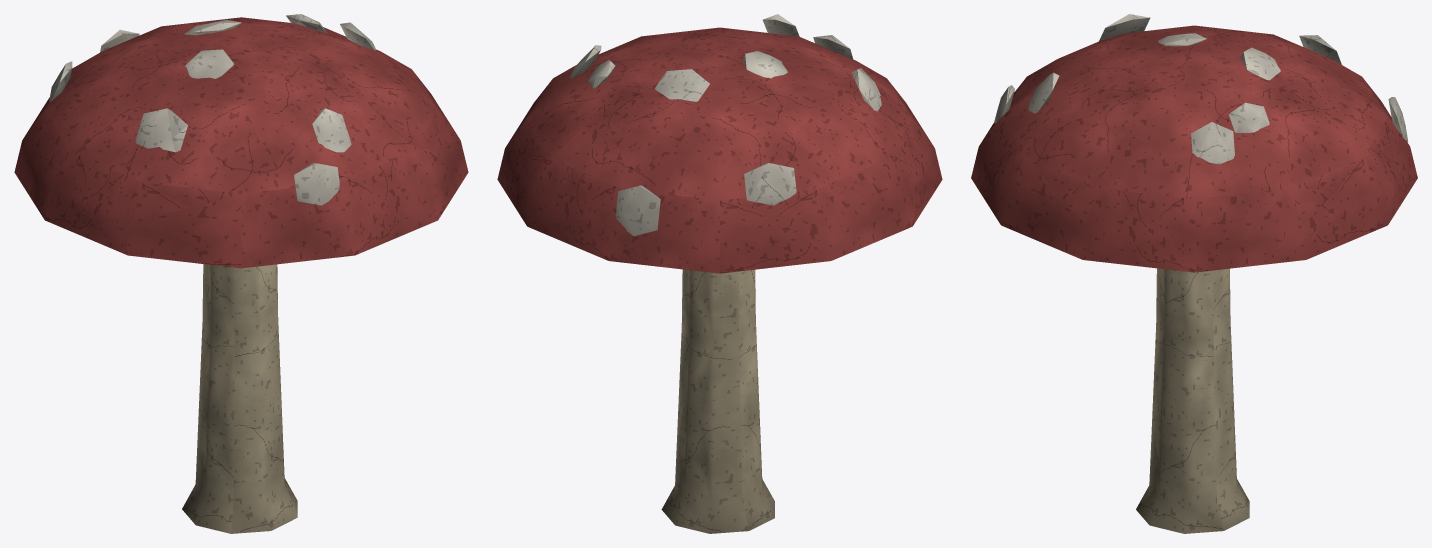
The model's file is mushroom.glb.
3 views of the same model, side by side, from view 1: azimuth 30°, elevation 25°; view 2: azimuth 150°, elevation 25°; view 3: azimuth 270°, elevation 25° (orthographic). The views are drawn at different scales.
Parts seen in each view (by area): view 1: mushroom; view 2: mushroom; view 3: mushroom.
Boxes of the visible parts, left/top/right/bottom form: mushroom: left=14, top=14, right=468, bottom=533; mushroom: left=497, top=14, right=942, bottom=533; mushroom: left=971, top=14, right=1417, bottom=533.
Size of the model in its own units: 9.9 by 11.25 by 9.9.
4 materials, 4 textured.
